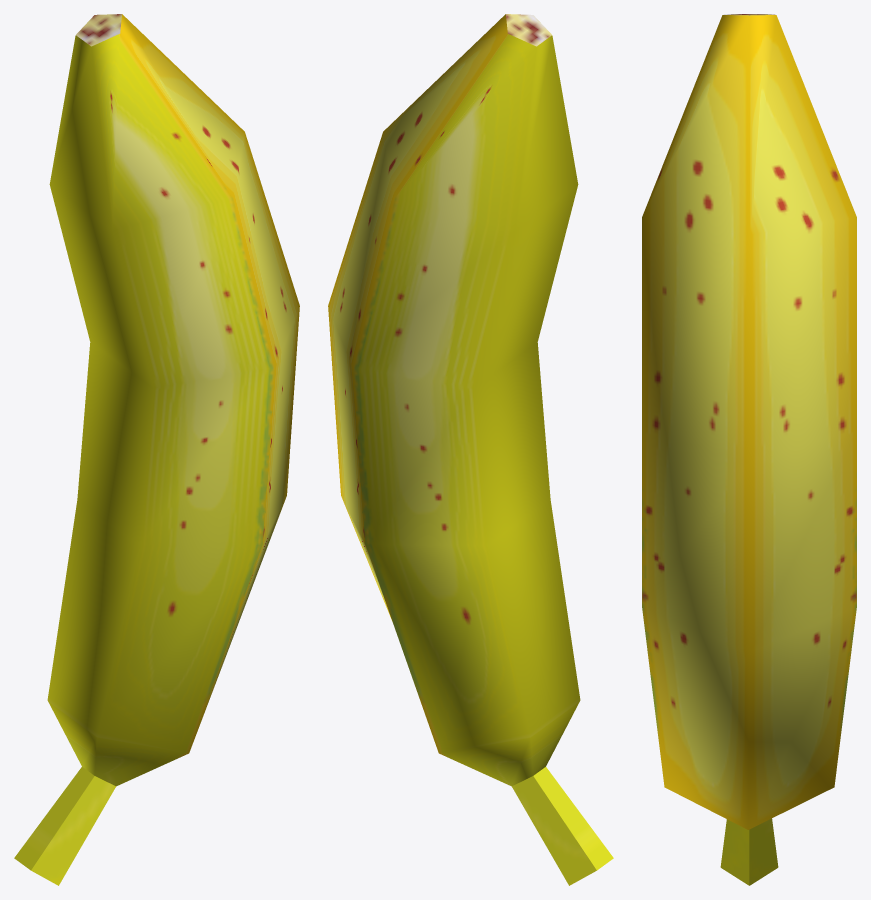
File: banana.FBX
The picture shows the model from 3 angles, left to right: view 1: azimuth 30°, elevation 25°; view 2: azimuth 150°, elevation 25°; view 3: azimuth 270°, elevation 25°; orthographic projection. The views are drawn at different scales.
Parts seen in each view (by area): view 1: Cylinder001; view 2: Cylinder001; view 3: Cylinder001.
Part boxes in pixels (<box>): Cylinder001: <box>14,14,299,885</box>; Cylinder001: <box>328,14,613,885</box>; Cylinder001: <box>642,14,856,885</box>.
Size of the model in its own units: 9.88 by 29.06 by 6.27.
